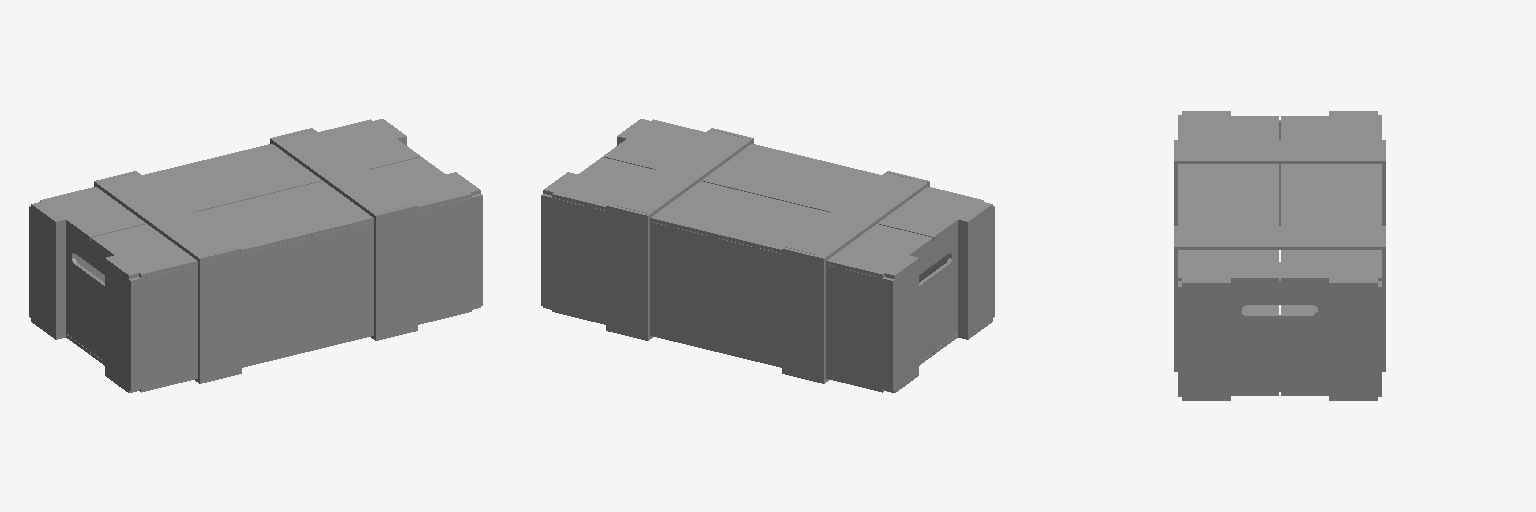
Rendered from Crate02_blend.obj.
3 renders of one model, left to right at view 1: azimuth 30°, elevation 25°; view 2: azimuth 150°, elevation 25°; view 3: azimuth 270°, elevation 25°, orthographic.
Visible parts, largest first — view 1: Crate_02_case, Crate_02_cover; view 2: Crate_02_case, Crate_02_cover; view 3: Crate_02_cover, Crate_02_case.
Boxes of the visible parts, <box> form: Crate_02_case: <box>29,119,482,392</box>; Crate_02_cover: <box>40,119,471,277</box>; Crate_02_case: <box>541,119,994,392</box>; Crate_02_cover: <box>552,119,983,277</box>; Crate_02_cover: <box>1178,116,1381,280</box>; Crate_02_case: <box>1174,111,1385,400</box>.
Size of the model in its own units: 0.5 by 0.17 by 0.261.